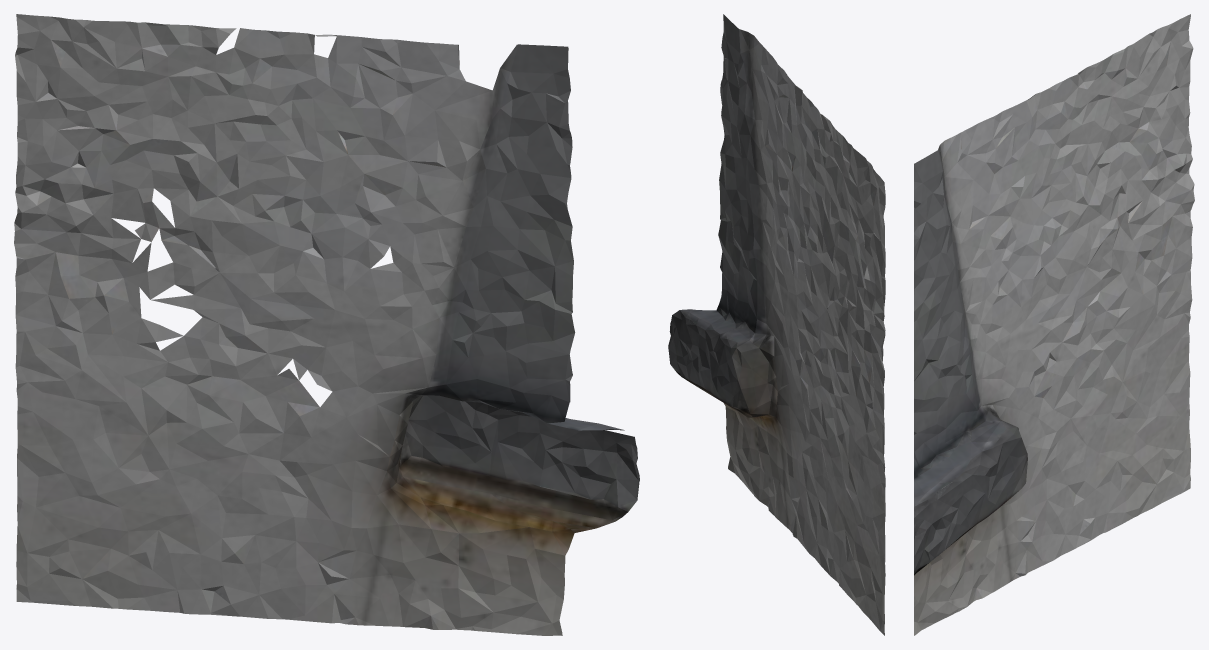
3 renders of one model, left to right at view 1: azimuth 30°, elevation 25°; view 2: azimuth 150°, elevation 25°; view 3: azimuth 270°, elevation 25°, orthographic. The views are drawn at different scales.
Size of the model in its own units: 0.6739 by 0.8374 by 0.4492.
Materials: 2 (2 with a texture image).
